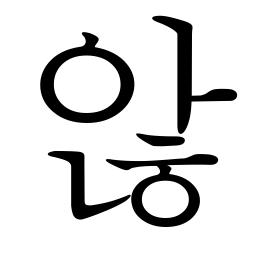Gaji: (163, 78, 212, 120)
